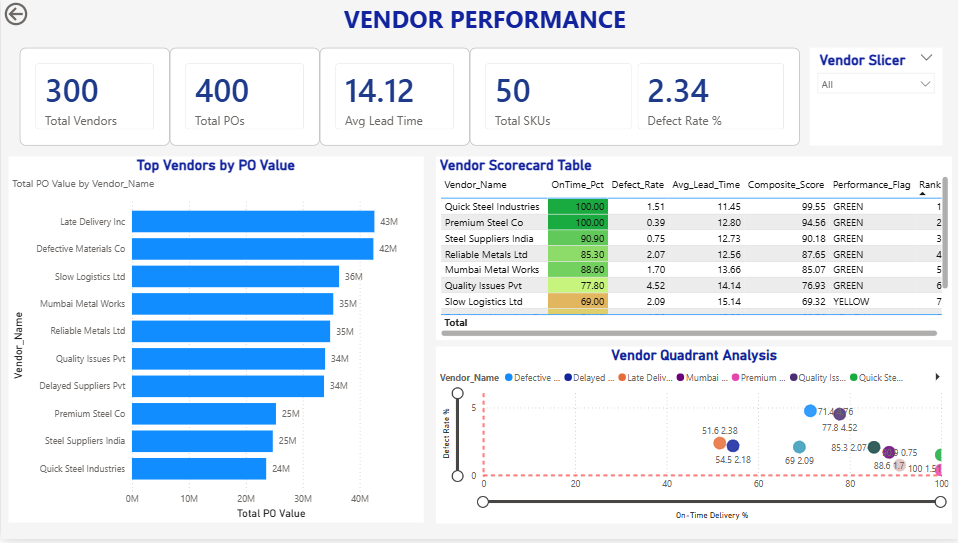

What the dashboard file says about the page in this screenshot:
{"tool":"powerbi","page":{"name":"Vendor Performance","canvas":[1280,720],"ordinal":2},"visuals":[{"type":"textbox","box":[10,0,1270,55],"z":0},{"type":"cardVisual","fields":{"Data":["_Measures.Total Vendors"]},"box":[25,65,200,130],"z":1000},{"type":"cardVisual","fields":{"Data":["_Measures.Total POs"]},"box":[225,65,200,130],"z":2000},{"type":"cardVisual","fields":{"Data":["_Measures.Total SKUs","_Measures.Defect Rate %"]},"box":[625,65,440,130],"z":3000},{"type":"cardVisual","fields":{"Data":["_Measures.Avg Lead Time"]},"box":[425,65,200,130],"z":4000},{"type":"clusteredBarChart","title":"Top Vendors by PO Value","fields":{"Category":["vendor_data.Vendor_Name"],"Y":["_Measures.Total PO Value"]},"box":[10,210,553.3,488.3],"z":5000},{"type":"tableEx","title":"Vendor Scorecard Table ","fields":{"Values":["vendor_scorecard.Vendor_Name","vendor_scorecard.OnTime_Pct","vendor_scorecard.Defect_Rate","vendor_scorecard.Avg_Lead_Time","vendor_scorecard.Composite_Score","vendor_scorecard.Performance_Flag","vendor_scorecard.Rank"]},"box":[580,210,688.3,245],"z":6000},{"type":"actionButton","box":[0,0,100,40],"z":7000},{"type":"scatterChart","title":"Vendor Quadrant Analysis","fields":{"X":["vendor_scorecard.OnTime_Pct"],"Y":["vendor_scorecard.Defect_Rate"],"Series":["vendor_scorecard.Vendor_Name"],"Size":["CountNonNull(vendor_scorecard.Total_Volume)"]},"box":[580,463.3,688.3,235],"z":8000},{"type":"slicer","fields":{"Values":["vendor_data.Vendor_Name"]},"box":[1078.3,65,176.7,130],"z":9000}]}

Visuals, with their boxes in screenshot pixels (x1, y1, x2, y2), scaled from the page's 1280x720 canvas onto the 958x543 screenshot:
textbox: <region>7, 0, 957, 41</region>
cardVisual - _Measures.Total Vendors: <region>19, 49, 168, 147</region>
cardVisual - _Measures.Total POs: <region>168, 49, 318, 147</region>
cardVisual - _Measures.Total SKUs x _Measures.Defect Rate %: <region>468, 49, 797, 147</region>
cardVisual - _Measures.Avg Lead Time: <region>318, 49, 468, 147</region>
"Top Vendors by PO Value" clusteredBarChart: <region>7, 158, 422, 527</region>
"Vendor Scorecard Table " tableEx: <region>434, 158, 949, 343</region>
actionButton: <region>0, 0, 75, 30</region>
"Vendor Quadrant Analysis" scatterChart: <region>434, 349, 949, 527</region>
slicer - vendor_data.Vendor_Name: <region>807, 49, 939, 147</region>
